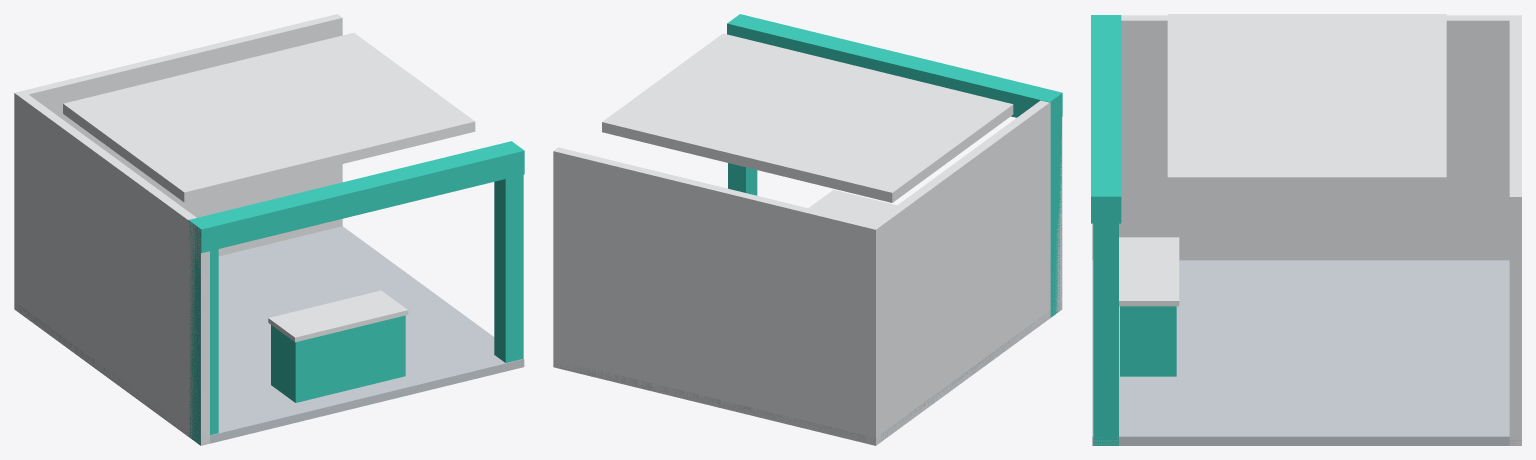
3 renders of one model, left to right at view 1: azimuth 30°, elevation 25°; view 2: azimuth 150°, elevation 25°; view 3: azimuth 270°, elevation 25°, orthographic. The views are drawn at different scales.
Visible parts, largest first — view 1: Exhibition Booth Concept; view 2: Exhibition Booth Concept; view 3: Exhibition Booth Concept.
Boxes of the visible parts, <box> form: Exhibition Booth Concept: <box>14,14,524,445</box>; Exhibition Booth Concept: <box>553,14,1062,445</box>; Exhibition Booth Concept: <box>1091,14,1521,445</box>.
Bounding box in the file's own units: 5 × 3.34 × 5.02.
